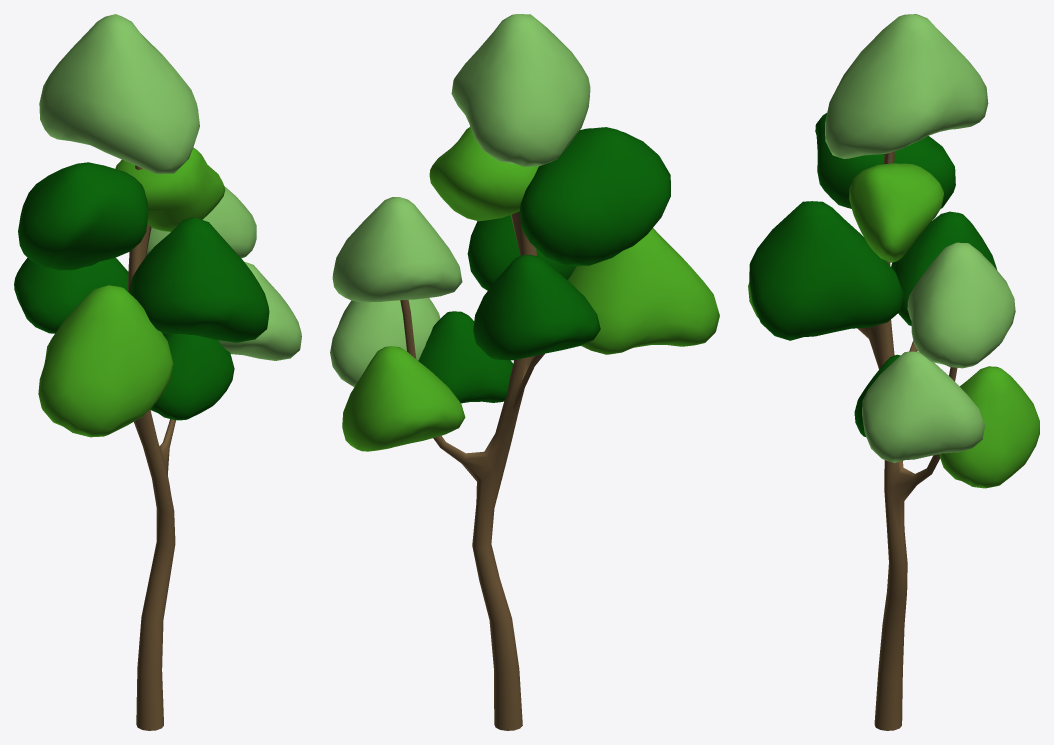
The model's file is Tree_31.fbx.
3 views of the same model, side by side, from view 1: azimuth 30°, elevation 25°; view 2: azimuth 150°, elevation 25°; view 3: azimuth 270°, elevation 25° (orthographic). The views are drawn at different scales.
Parts seen in each view (by area): view 1: Tree_31; view 2: Tree_31; view 3: Tree_31.
Boxes of the visible parts, x1,y1,x2,y2 form: Tree_31: [14, 14, 301, 730]; Tree_31: [330, 14, 719, 730]; Tree_31: [748, 14, 1039, 730].
Bounding box in the file's own units: 289 × 641 × 242.
